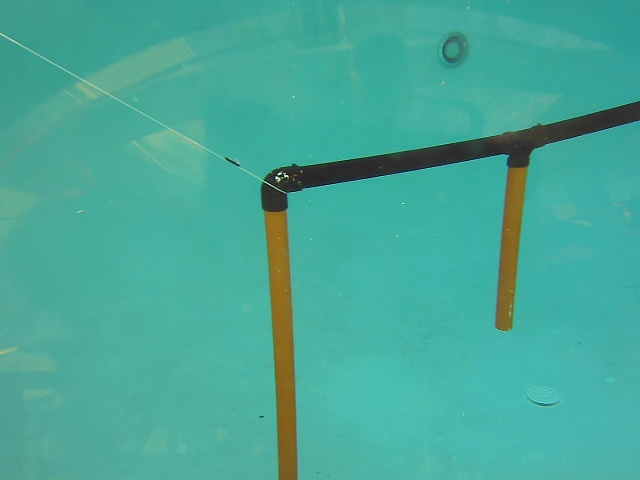Gate: (257, 203, 304, 480), (490, 157, 531, 331)
